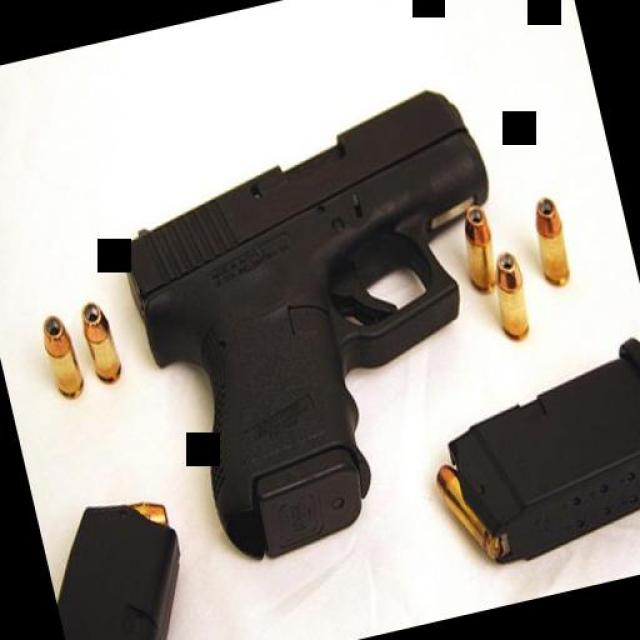gun: (95, 71, 551, 579)
